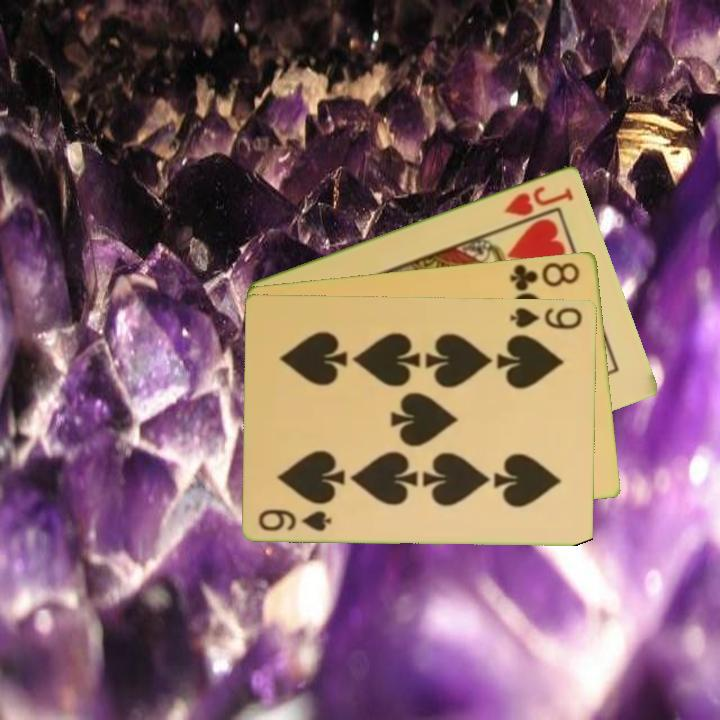8c: (507, 258, 583, 295)
9s: (255, 505, 335, 534), (506, 304, 586, 332)
Jh: (501, 182, 577, 219)
